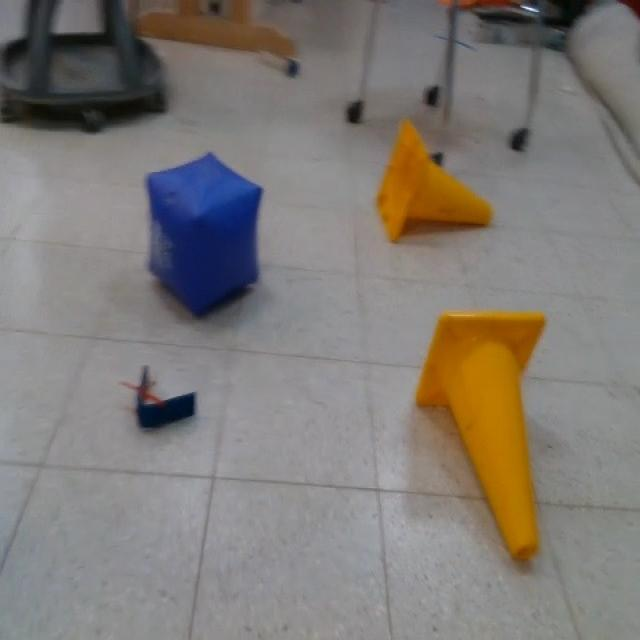cone: (416, 308, 546, 557), (376, 117, 492, 245)
cube: (146, 152, 264, 312)
